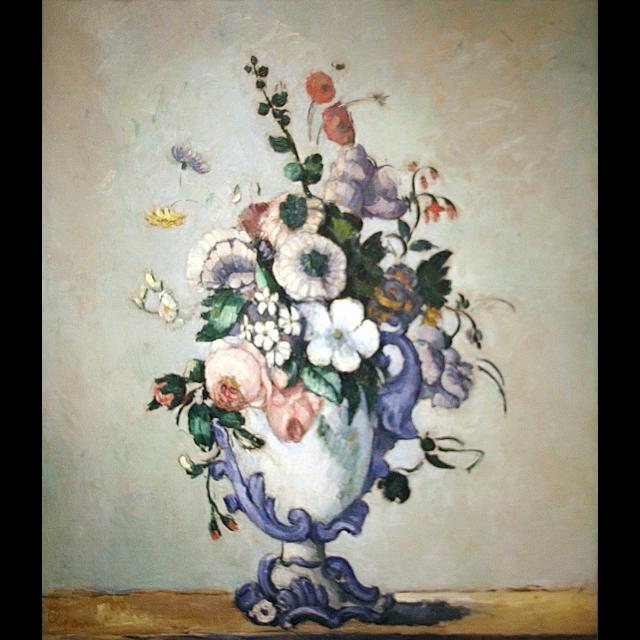Flower: (181, 136, 525, 444), (307, 306, 383, 372), (326, 85, 388, 139), (167, 140, 213, 172), (306, 72, 338, 108), (155, 286, 183, 324), (141, 206, 183, 230), (152, 378, 176, 414)
